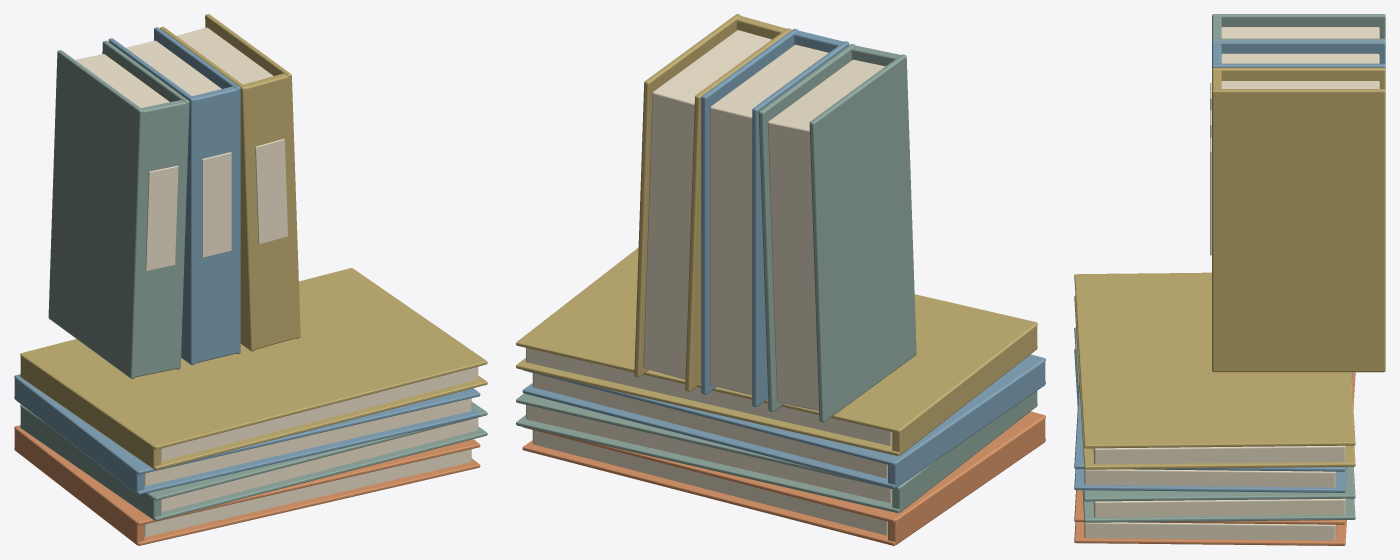
File: urban-storybooks-v1.glb
The picture shows the model from 3 angles, left to right: view 1: azimuth 30°, elevation 25°; view 2: azimuth 150°, elevation 25°; view 3: azimuth 270°, elevation 25°; orthographic projection. The views are drawn at different scales.
Parts seen in each view (by area): view 1: Storybook-cover (×8), Standing-book-cover (×6), Standing-book-spine (×3), Storybook-pages (×4), Storybook-spine (×4), Storybook-title-label (×3), Standing-book-pages (×3); view 2: Standing-book-cover (×6), Standing-book-pages (×3), Storybook-cover (×8), Storybook-pages (×4), Storybook-spine (×4), Standing-book-spine (×3); view 3: Standing-book-cover (×6), Storybook-cover (×8), Storybook-pages (×4), Standing-book-pages (×3).
Part boxes in pixels (left/top/right/bottom): Storybook-cover (×8): left=14, top=268, right=487, bottom=545; Standing-book-cover (×6): left=48, top=14, right=300, bottom=378; Standing-book-spine (×3): left=134, top=73, right=298, bottom=377; Storybook-pages (×4): left=144, top=366, right=478, bottom=536; Storybook-spine (×4): left=14, top=353, right=160, bottom=544; Storybook-title-label (×3): left=145, top=139, right=287, bottom=270; Standing-book-pages (×3): left=75, top=27, right=273, bottom=107; Standing-book-cover (×6): left=634, top=14, right=916, bottom=422; Standing-book-pages (×3): left=643, top=30, right=885, bottom=410; Storybook-cover (×8): left=516, top=247, right=1045, bottom=545; Storybook-pages (×4): left=526, top=348, right=892, bottom=535; Storybook-spine (×4): left=888, top=322, right=1045, bottom=544; Standing-book-spine (×3): left=736, top=16, right=900, bottom=66; Standing-book-cover (×6): left=1212, top=14, right=1385, bottom=372; Storybook-cover (×8): left=1074, top=273, right=1355, bottom=545; Storybook-pages (×4): left=1084, top=445, right=1345, bottom=540; Standing-book-pages (×3): left=1221, top=27, right=1379, bottom=88.
Bounding box in the file's own units: 0.2158 × 0.2209 × 0.1596.
